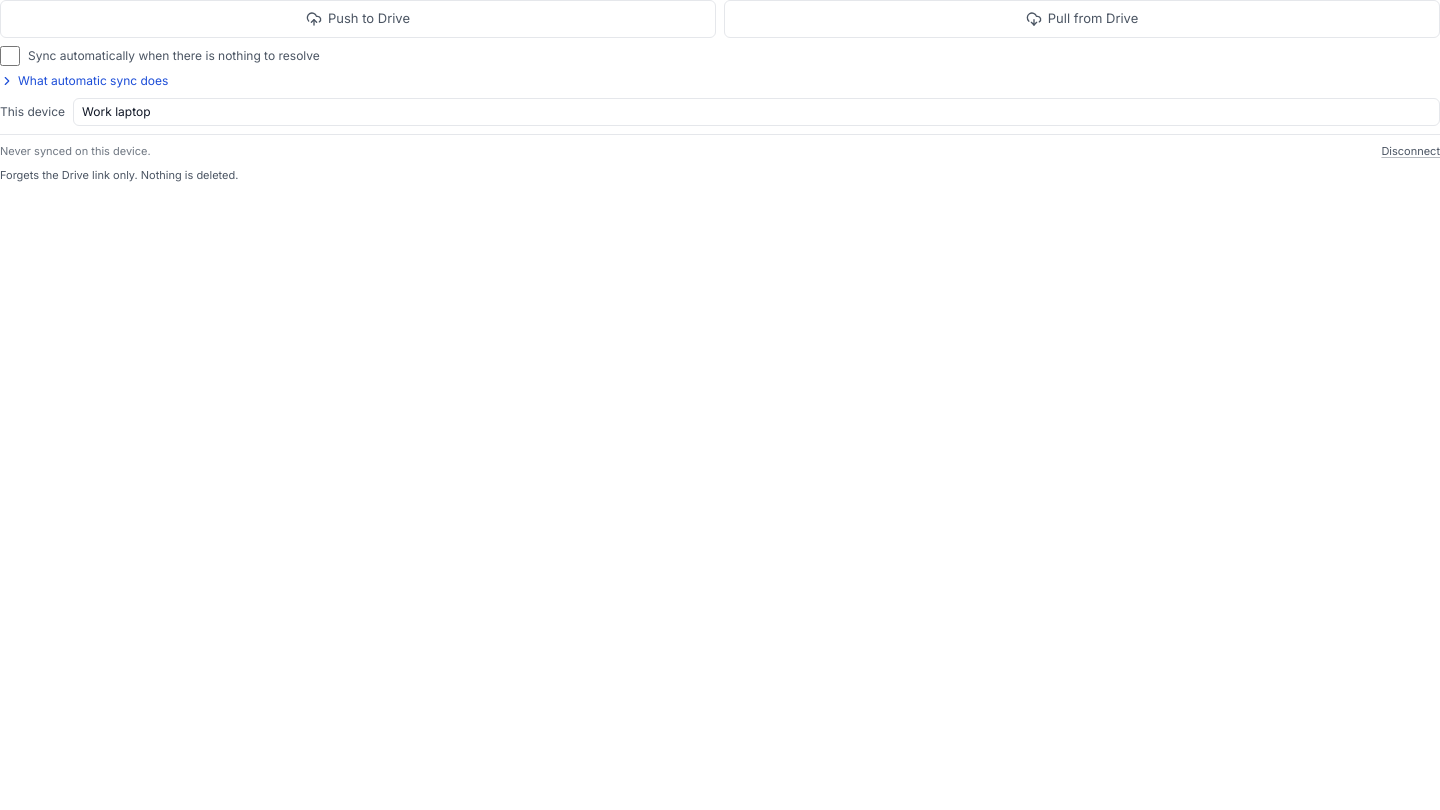
Test: DriveSyncControls › warns before overwriting a newer snapshot from another device
Click the button "Push to Drive".
click(358, 19)  # box [0,0,716,38]
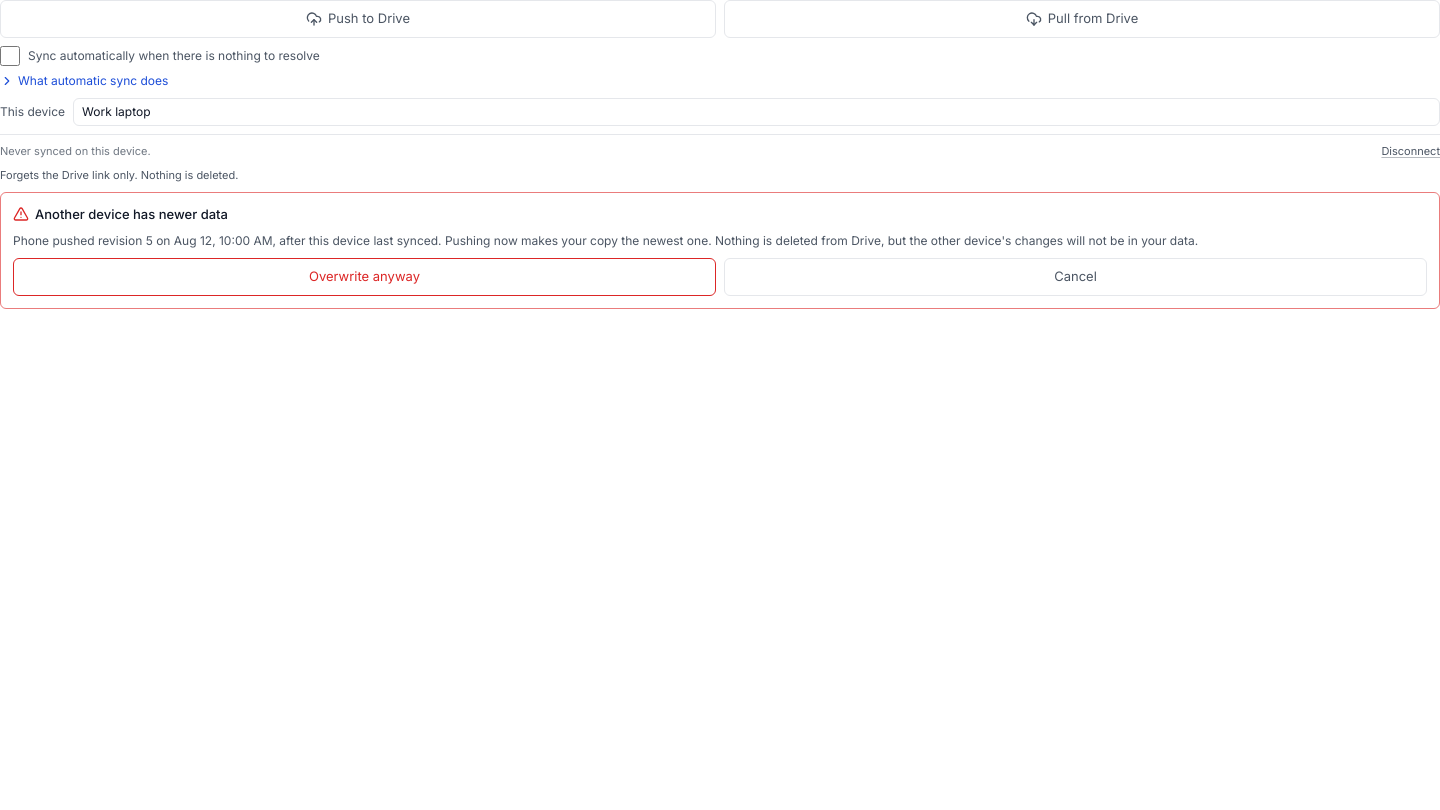
Expected: the dialog is shown, [0,192,1439,308]
Expected: the text "Phone" is shown, [13,233,49,248]
Expected: the text "Another device has newer data" is shown, [13,206,228,222]
